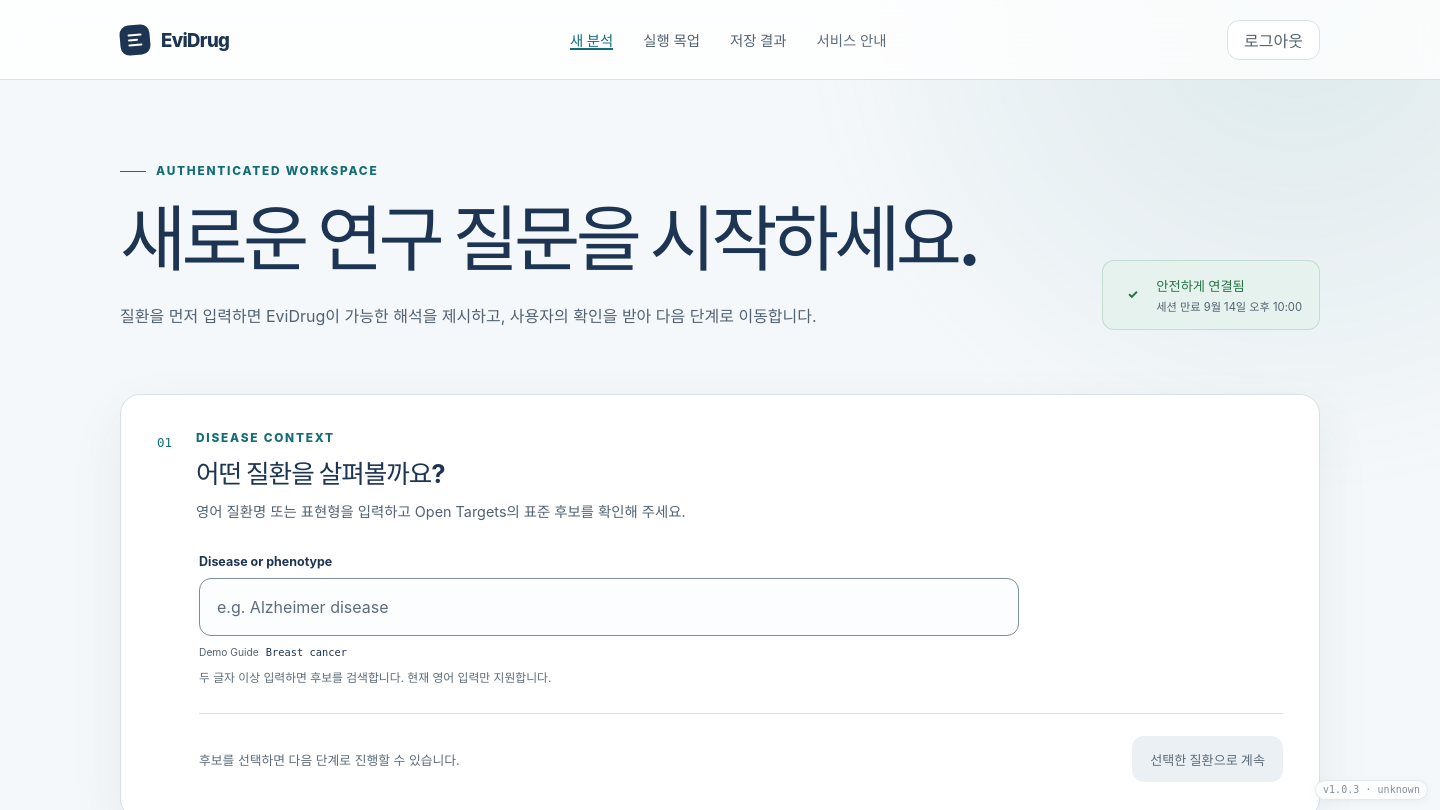
Scenario: App authentication flow › returns to the public landing after logout
Click the button "로그아웃": (1274, 40) [1227, 20, 1320, 60]
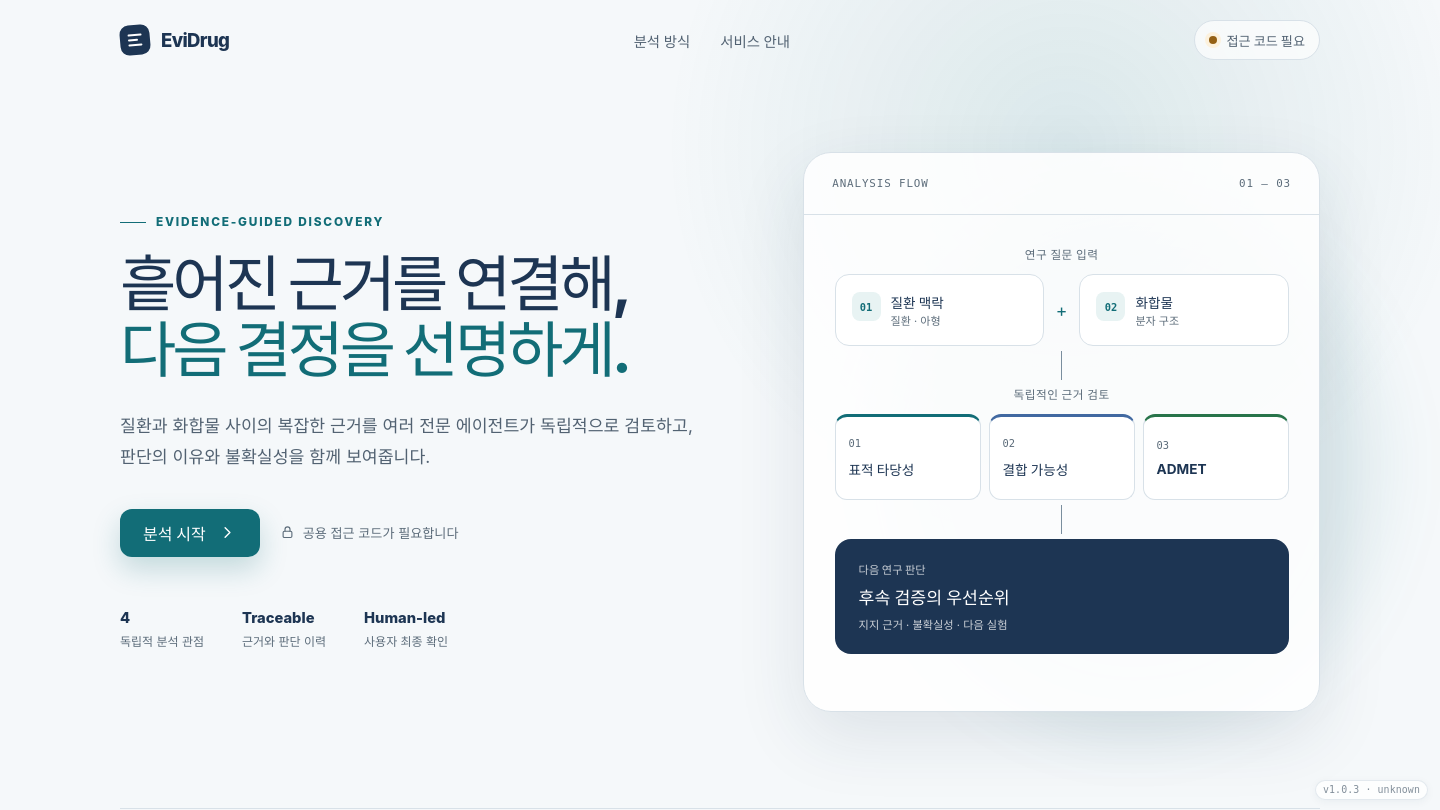
Now the heading "흩어진 근거를 연결해, 다음 결정을 선명하게." is shown, box [120, 251, 707, 383]
